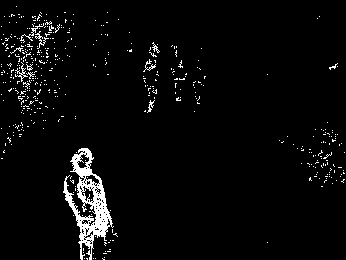person: (62, 146, 116, 260), (143, 62, 160, 113)
